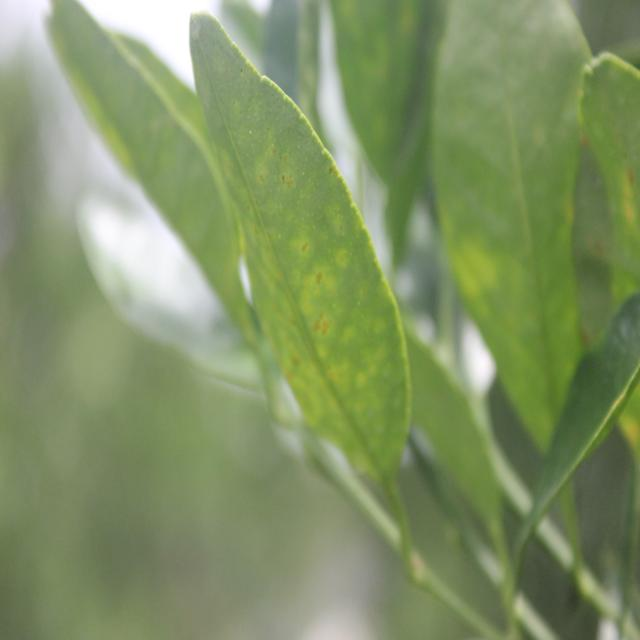canker: (218, 67, 400, 458)
